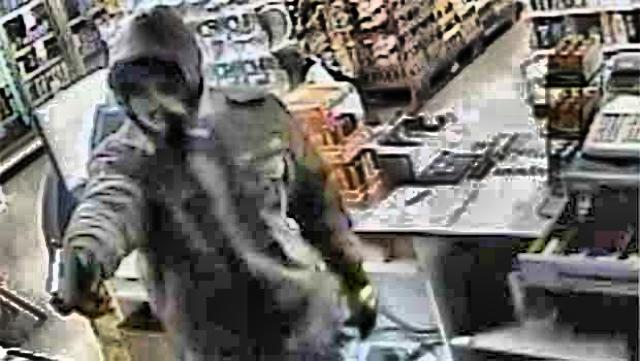pistol: (44, 245, 104, 312)
